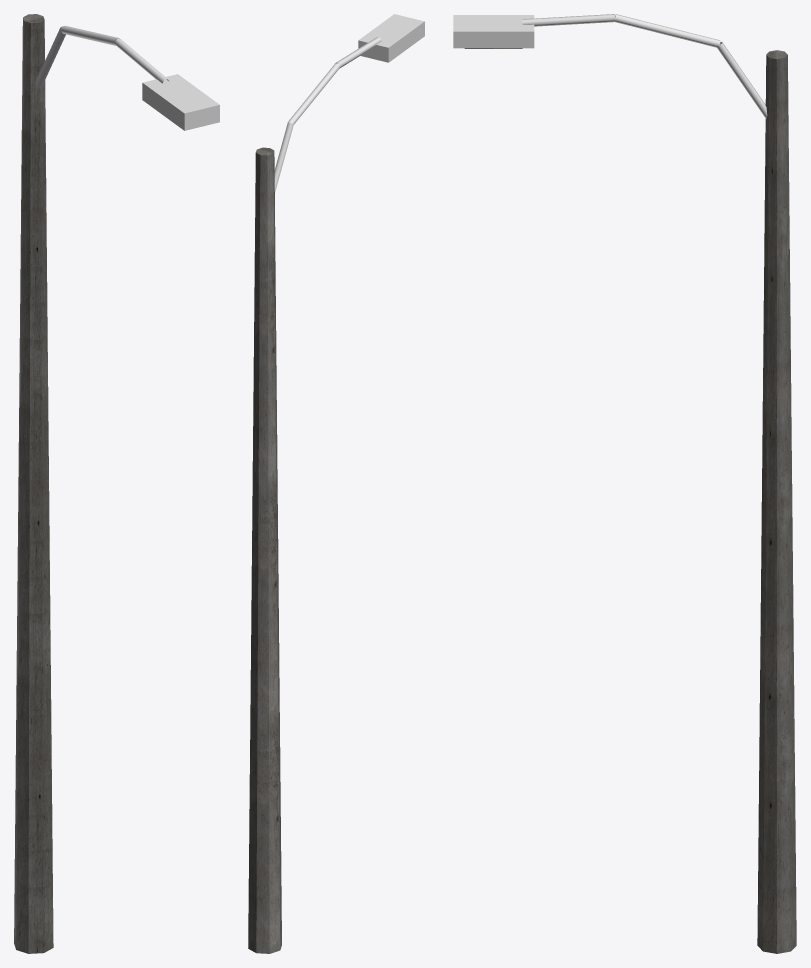
File: S1U_StreetLamp.fbx
3 renders of one model, left to right at view 1: azimuth 30°, elevation 25°; view 2: azimuth 150°, elevation 25°; view 3: azimuth 270°, elevation 25°, orthographic. The views are drawn at different scales.
Parts seen in each view (by area): view 1: S1U_StreetLamp; view 2: S1U_StreetLamp; view 3: S1U_StreetLamp.
Boxes of the visible parts, x1,y1,x2,y2 form: S1U_StreetLamp: [14, 14, 219, 953]; S1U_StreetLamp: [248, 14, 424, 953]; S1U_StreetLamp: [453, 14, 796, 953].
Bounding box in the file's own units: 0.34 × 8.88 × 2.97.
